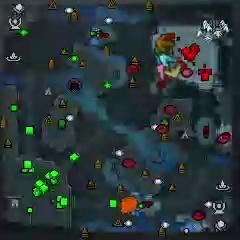p5: (120, 196, 139, 214)
x1: (157, 64, 164, 80)
x2: (164, 64, 182, 78)
x3: (155, 54, 176, 66)
x4: (154, 47, 167, 57)
x5: (155, 34, 175, 51)
